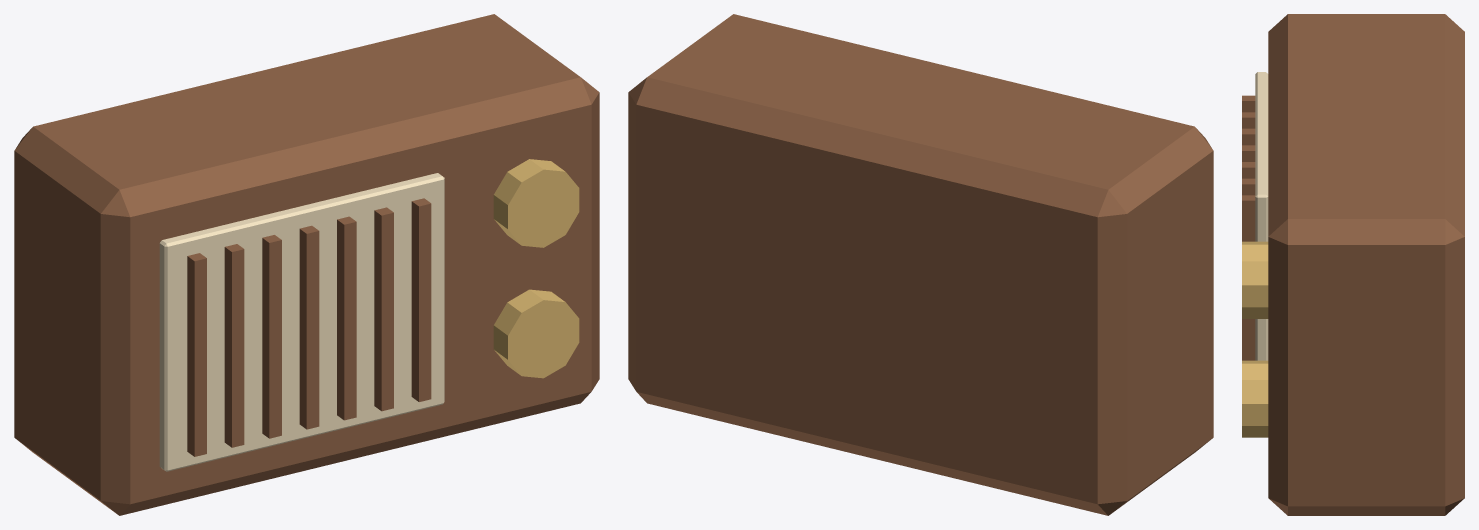
File: SM_CH_Paper_Radio.fbx
3 renders of one model, left to right at view 1: azimuth 30°, elevation 25°; view 2: azimuth 150°, elevation 25°; view 3: azimuth 270°, elevation 25°, orthographic. The views are drawn at different scales.
Parts seen in each view (by area): view 1: SM_CH_Paper_Radio; view 2: SM_CH_Paper_Radio; view 3: SM_CH_Paper_Radio.
Boxes of the visible parts, <box> form: SM_CH_Paper_Radio: <box>14,14,599,515</box>; SM_CH_Paper_Radio: <box>628,14,1213,515</box>; SM_CH_Paper_Radio: <box>1242,14,1464,515</box>.
Bounding box in the file's own units: 8000 × 3400 × 5000.
